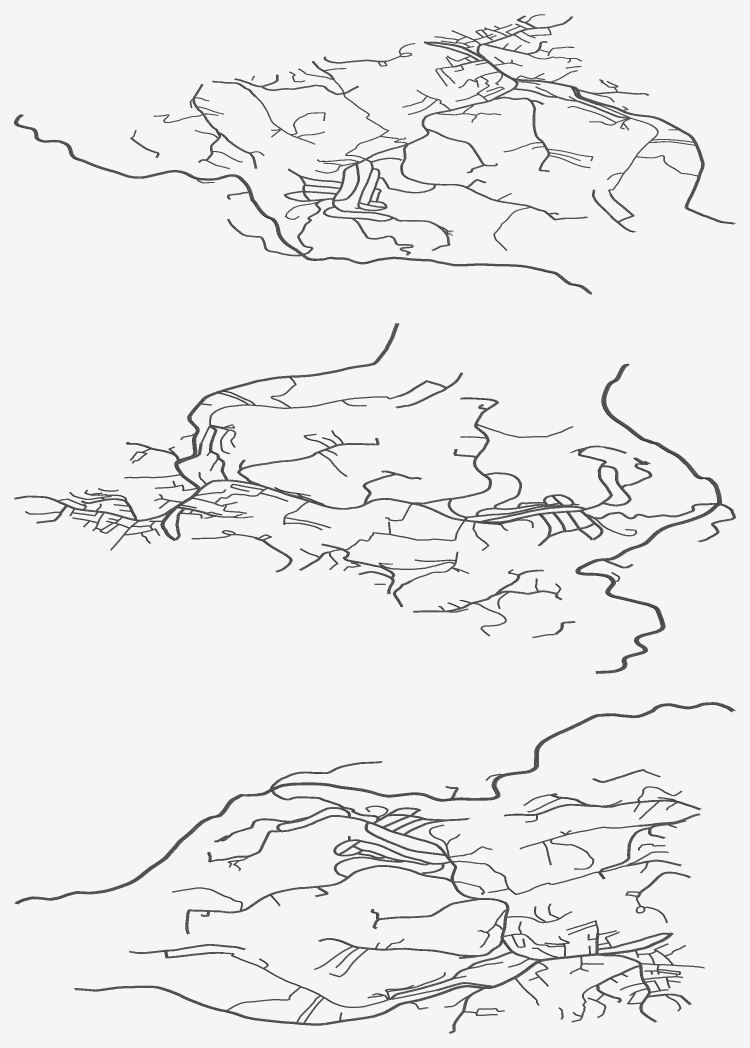
Rendered from osm_real_roads_T_W01_S01.glb.
3 renders of one model, top to bottom at view 1: azimuth 30°, elevation 25°; view 2: azimuth 150°, elevation 25°; view 3: azimuth 270°, elevation 25°, orthographic. The views are drawn at different scales.
Parts seen in each view (by area): view 1: OSM_Roads_T_W01_S01_taluy_embankment, OSM_Roads_T_W01_S01_asphalt_local, OSM_Roads_T_W01_S01_sidewalk_paver, OSM_Roads_T_W01_S01_asphalt_primary; view 2: OSM_Roads_T_W01_S01_taluy_embankment, OSM_Roads_T_W01_S01_asphalt_local, OSM_Roads_T_W01_S01_sidewalk_paver, OSM_Roads_T_W01_S01_asphalt_primary, OSM_Roads_T_W01_S01_granite_curb; view 3: OSM_Roads_T_W01_S01_taluy_embankment, OSM_Roads_T_W01_S01_asphalt_local, OSM_Roads_T_W01_S01_sidewalk_paver, OSM_Roads_T_W01_S01_asphalt_primary, OSM_Roads_T_W01_S01_granite_curb.
Boxes of the visible parts, x1,y1,x2,y2 form: OSM_Roads_T_W01_S01_taluy_embankment: [14, 14, 735, 294]; OSM_Roads_T_W01_S01_asphalt_local: [131, 14, 734, 255]; OSM_Roads_T_W01_S01_sidewalk_paver: [14, 17, 734, 293]; OSM_Roads_T_W01_S01_asphalt_primary: [15, 114, 591, 293]; OSM_Roads_T_W01_S01_taluy_embankment: [14, 324, 735, 673]; OSM_Roads_T_W01_S01_asphalt_local: [14, 323, 735, 637]; OSM_Roads_T_W01_S01_sidewalk_paver: [14, 323, 735, 672]; OSM_Roads_T_W01_S01_asphalt_primary: [576, 364, 720, 672]; OSM_Roads_T_W01_S01_granite_curb: [26, 337, 734, 672]; OSM_Roads_T_W01_S01_taluy_embankment: [18, 704, 731, 1033]; OSM_Roads_T_W01_S01_asphalt_local: [74, 761, 704, 1032]; OSM_Roads_T_W01_S01_sidewalk_paver: [14, 702, 735, 1031]; OSM_Roads_T_W01_S01_asphalt_primary: [15, 702, 734, 903]; OSM_Roads_T_W01_S01_granite_curb: [31, 702, 734, 1032].
Bounding box in the file's own units: 2575 × 155 × 2501.
7 materials, 5 textured.
